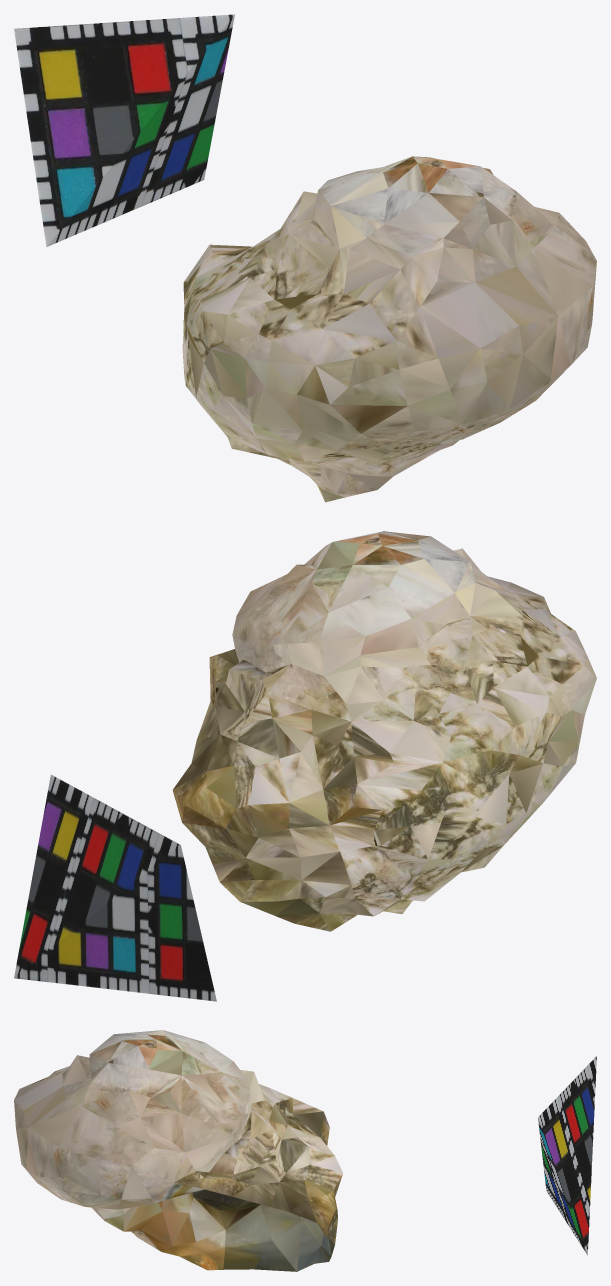
The model's file is shell_turban.glb.
The picture shows the model from 3 angles, top to bottom: view 1: azimuth 30°, elevation 25°; view 2: azimuth 150°, elevation 25°; view 3: azimuth 270°, elevation 25°; orthographic projection. The views are drawn at different scales.
Parts seen in each view (by area): view 1: shell_turban; view 2: shell_turban; view 3: shell_turban.
Part boxes in pixels (x1,y1,x2,y2): shell_turban: (14,14,596,502); shell_turban: (14,531,596,1001); shell_turban: (14,1030,596,1271).
Bounding box in the file's own units: 0.452 × 0.4365 × 0.9203.
3 materials, 3 textured.
